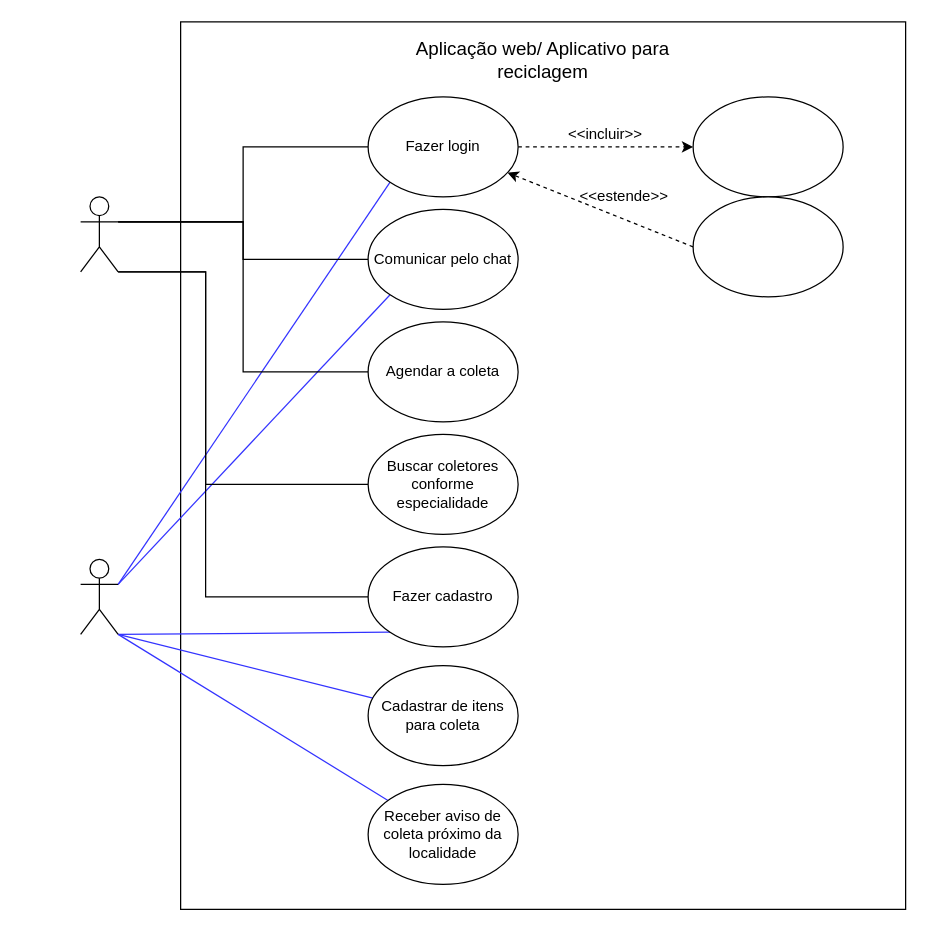
This 928x931 diagram has some shape labels left out. Here are the shapes that lost their labels. From the top down, the centre of each, then its label:
At (x=767, y=146): "Verificar senha".
At (x=98, y=234): "Interessado em reciclar".
At (x=767, y=246): "Exibir erro de login".
At (x=98, y=596): "Coletor".
